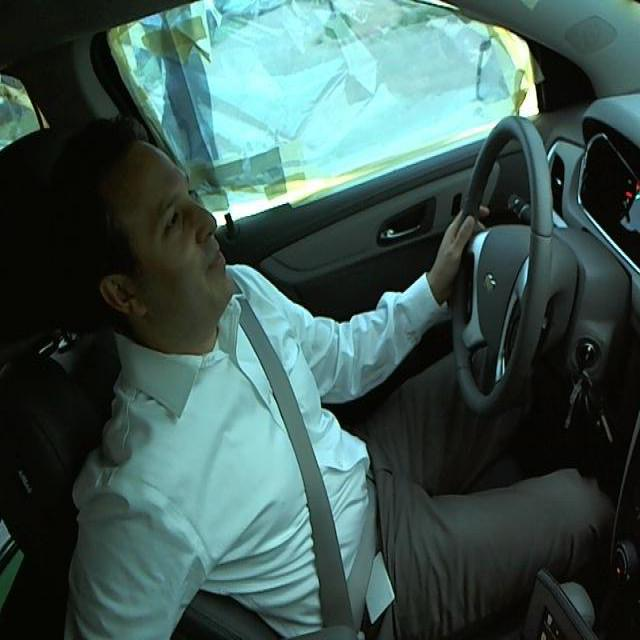seatbelt: (242, 337, 386, 616)
